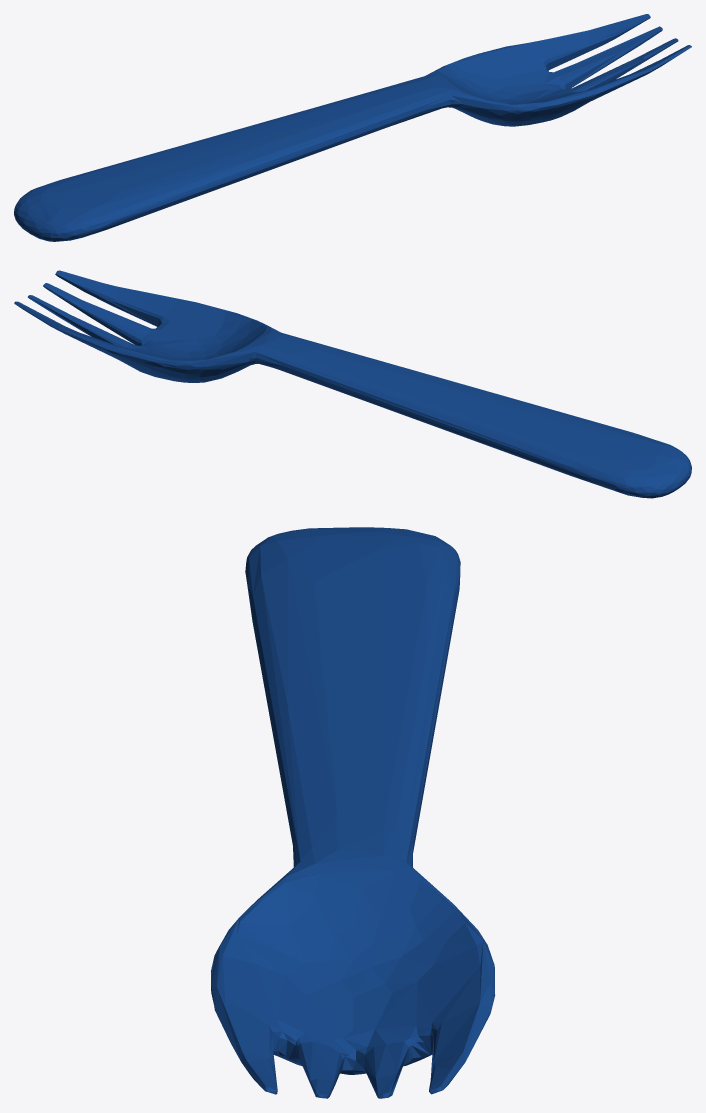
File: dishware_plastic_fork_a01.glb
3 renders of one model, top to bottom at view 1: azimuth 30°, elevation 25°; view 2: azimuth 150°, elevation 25°; view 3: azimuth 270°, elevation 25°, orthographic. The views are drawn at different scales.
Parts seen in each view (by area): view 1: part0; view 2: part0; view 3: part0.
Boxes of the visible parts, left/top/right/bottom form: part0: left=14, top=14, right=691, bottom=241; part0: left=14, top=270, right=691, bottom=498; part0: left=211, top=527, right=495, bottom=1098.
Size of the model in its own units: 0.1579 by 0.0125 by 0.0301.
